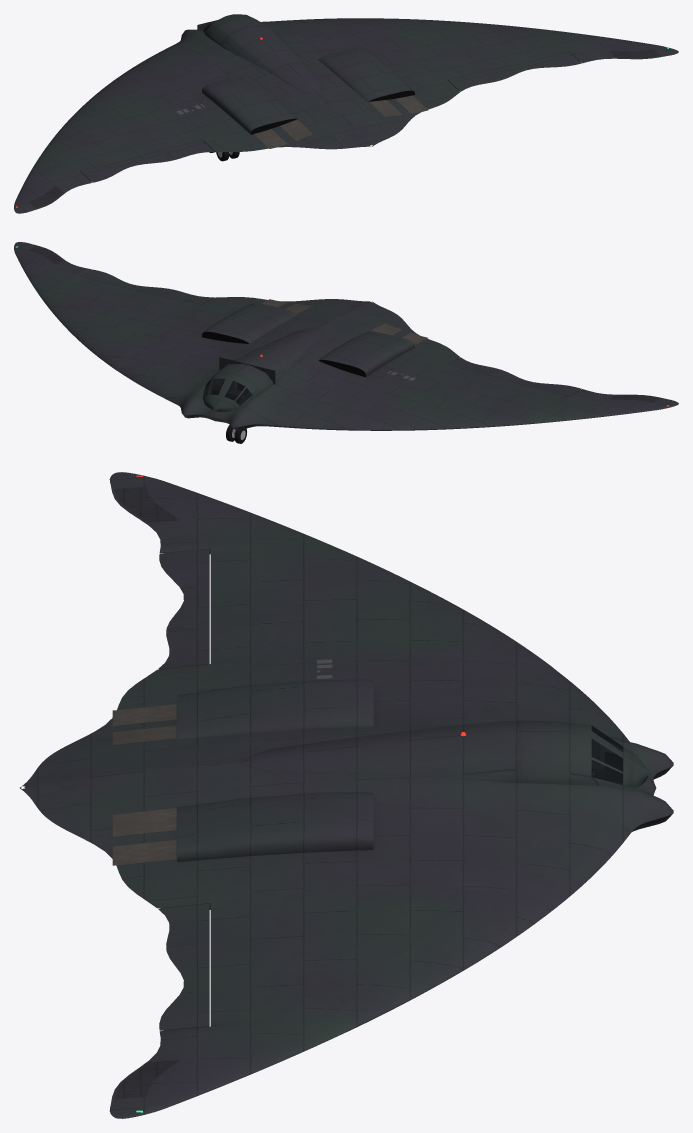
File: manta_sombra.glb
3 views of the same model, one above another, from view 1: azimuth 30°, elevation 25°; view 2: azimuth 150°, elevation 25°; view 3: azimuth 270°, elevation 25° (orthographic). The views are drawn at different scales.
Parts seen in each view (by area): view 1: lod0, elevon_l, elevon_r; view 2: lod0, elevon_l, elevon_r, cockpit_lod0; view 3: lod0, elevon_r, elevon_l.
Part boxes in pixels (box(x1,y1,x2,y2)): lod0: box(14, 14, 678, 213); elevon_l: box(80, 140, 214, 182); elevon_r: box(448, 52, 581, 91); lod0: box(14, 242, 678, 430); elevon_l: box(448, 357, 581, 395); elevon_r: box(80, 269, 214, 304); cockpit_lod0: box(206, 357, 275, 403); lod0: box(20, 472, 673, 1118); elevon_r: box(158, 903, 209, 1030); elevon_l: box(158, 549, 209, 669).
Size of what is drawn, in the model's own units: 45.98 by 4.65 by 19.67.
Materials: 8 (1 with a texture image).
